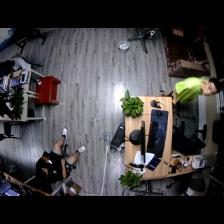normal: (35, 128, 86, 179), (165, 77, 221, 103), (1, 55, 30, 74)
